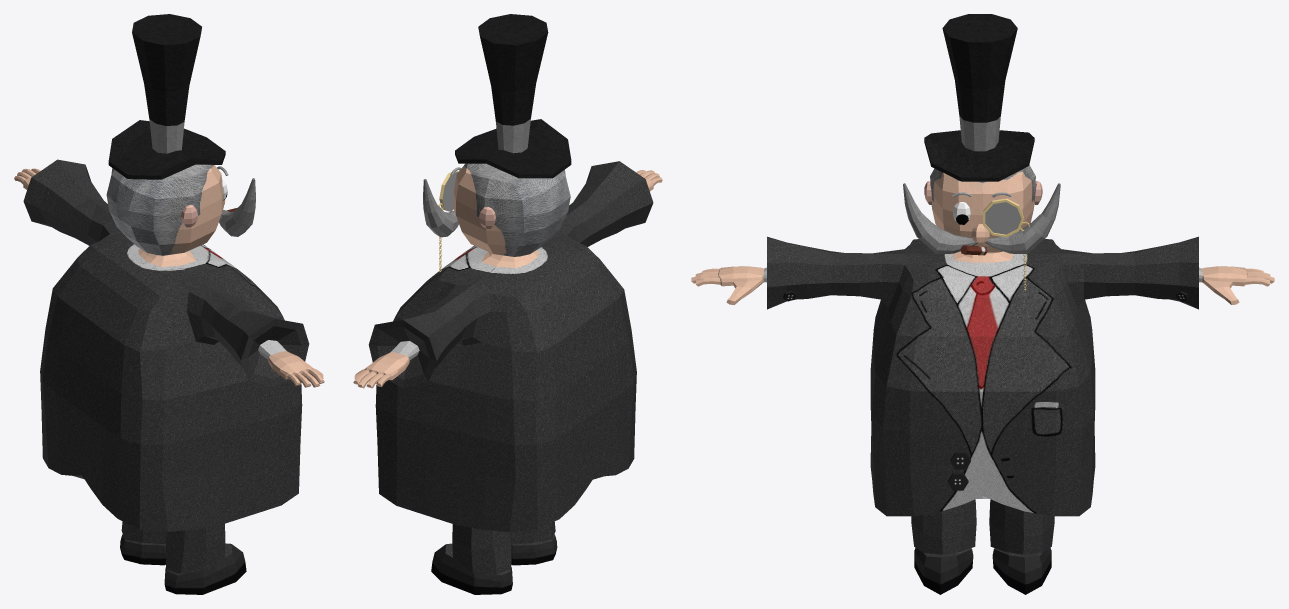
The model's file is Magnate.fbx.
3 views of the same model, side by side, from view 1: azimuth 30°, elevation 25°; view 2: azimuth 150°, elevation 25°; view 3: azimuth 270°, elevation 25° (orthographic).
Parts seen in each view (by area): view 1: Cuerpo, Sombrero, Bigote_Dcha.001; view 2: Cuerpo, Sombrero, Bigote_Dcha, Monoculo; view 3: Cuerpo, Sombrero, Bigote_Dcha, Bigote_Dcha.001, Monoculo.
Boxes of the visible parts, x1,y1,x2,y2 form: Cuerpo: [14, 159, 324, 594]; Sombrero: [108, 14, 225, 179]; Bigote_Dcha.001: [219, 178, 255, 236]; Cuerpo: [353, 161, 662, 594]; Sombrero: [455, 14, 571, 178]; Bigote_Dcha: [423, 179, 458, 237]; Monoculo: [439, 171, 458, 211]; Cuerpo: [691, 165, 1274, 594]; Sombrero: [924, 14, 1034, 181]; Bigote_Dcha: [984, 183, 1060, 253]; Bigote_Dcha.001: [903, 183, 978, 253]; Monoculo: [983, 198, 1023, 237].
Bounding box in the file's own units: 5.23 × 14.57 × 14.31.
